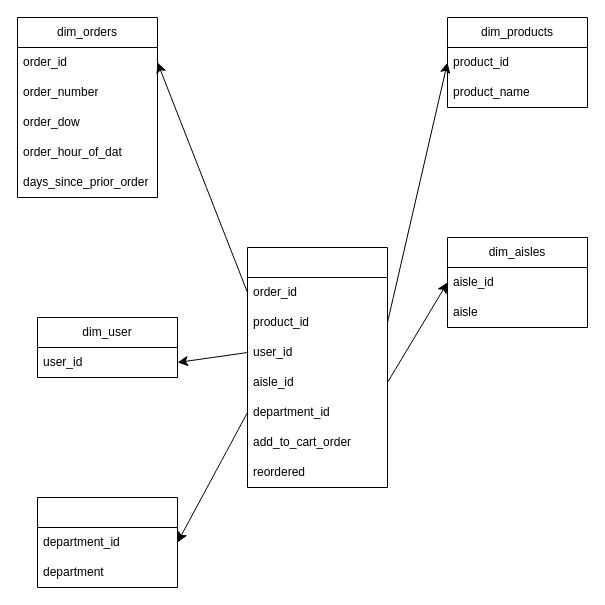
The diagram is 605 pixels wide and 605 high, and some of its shapes have lost their labels. The box of each missing label's shape, as (x1, y1, x2, y2) in pixels:
dim_department: (36, 496, 178, 588)
fact_order_products: (246, 246, 388, 488)
